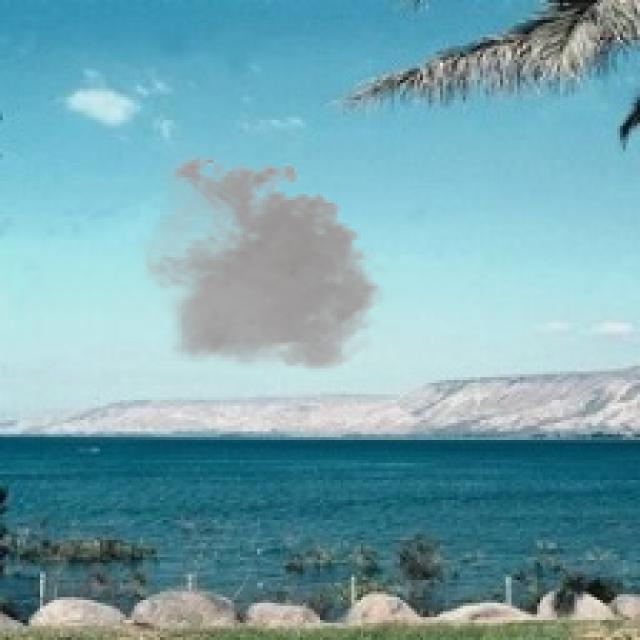Smoke: (128, 148, 394, 380)
